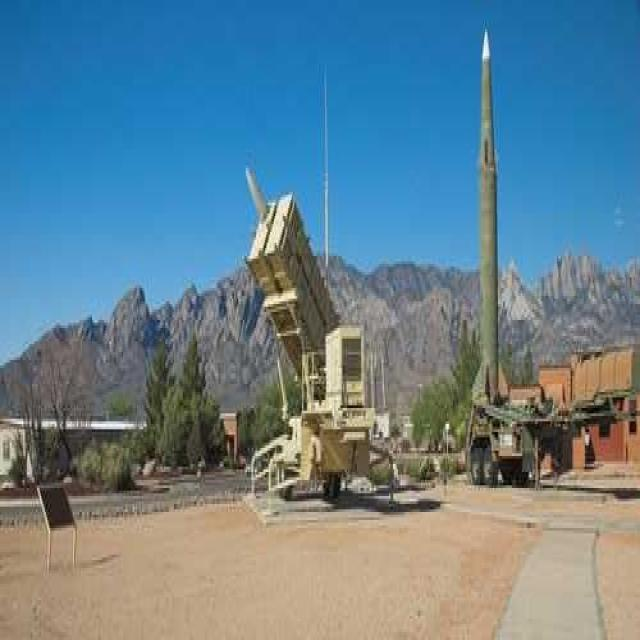missile: (475, 24, 504, 401)
